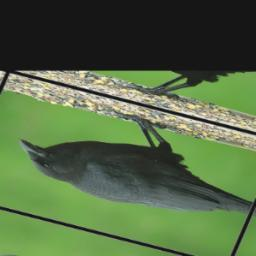Crow: (4, 88, 256, 234)
